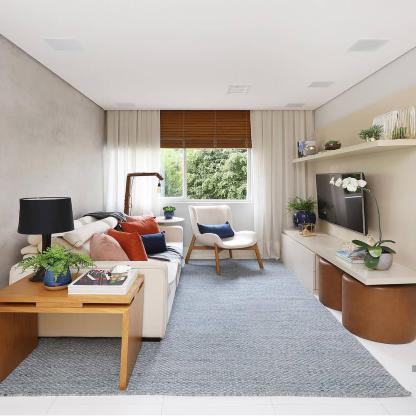bantal: (117, 233, 147, 260), (144, 232, 168, 255), (123, 218, 161, 232), (203, 222, 235, 238)
buku: (68, 264, 132, 295)
kursi: (186, 204, 268, 278)
lampu: (18, 194, 72, 280)
tanaman: (30, 250, 76, 286), (358, 238, 394, 269), (287, 194, 316, 211)
tv: (313, 171, 369, 236)
